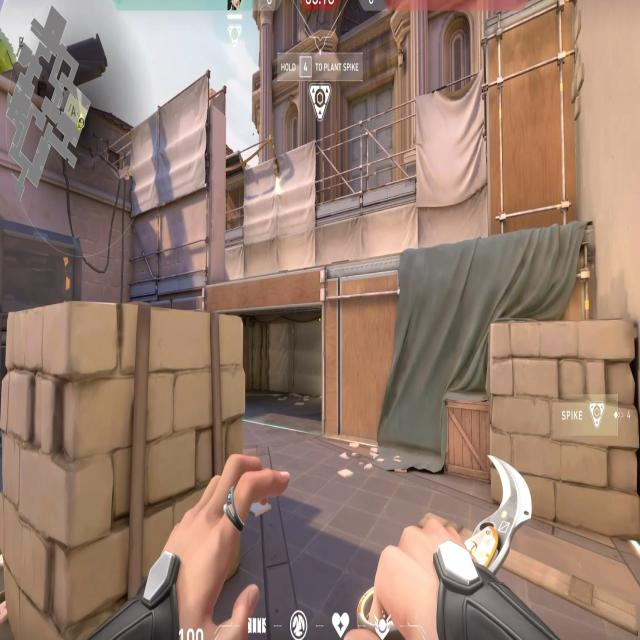A_Heaven_Box: (479, 7, 597, 241)
A_Heaven_Wall: (126, 97, 230, 301)
A_Hell: (198, 287, 350, 436)
A_Site_Box: (2, 315, 247, 640)
